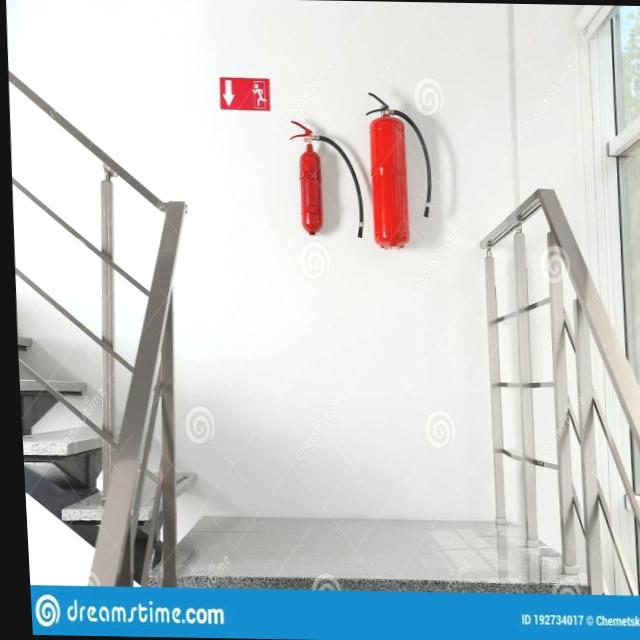FireExtinguisher: (356, 86, 437, 254), (281, 115, 366, 249)
